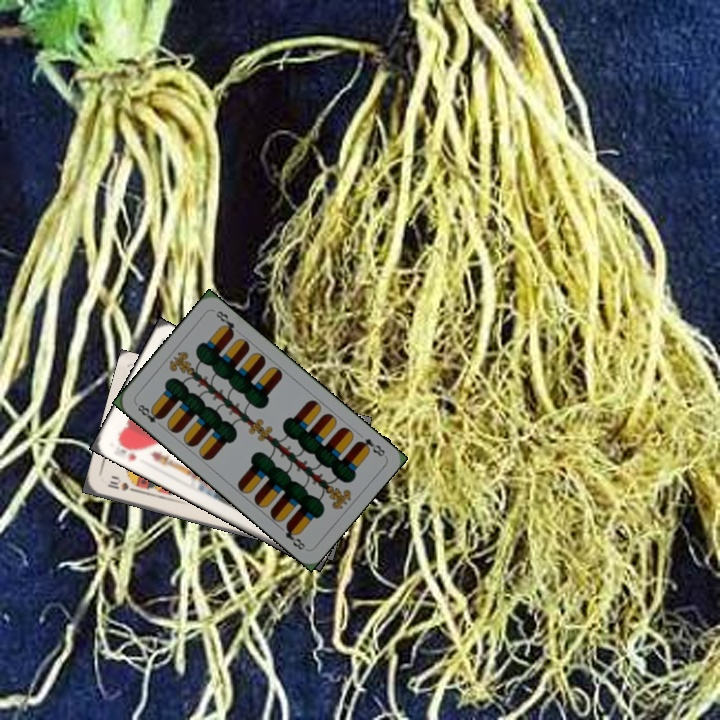E8: (132, 399, 165, 430), (353, 434, 388, 459)
HK: (113, 436, 141, 464)
S10: (103, 477, 140, 495)
